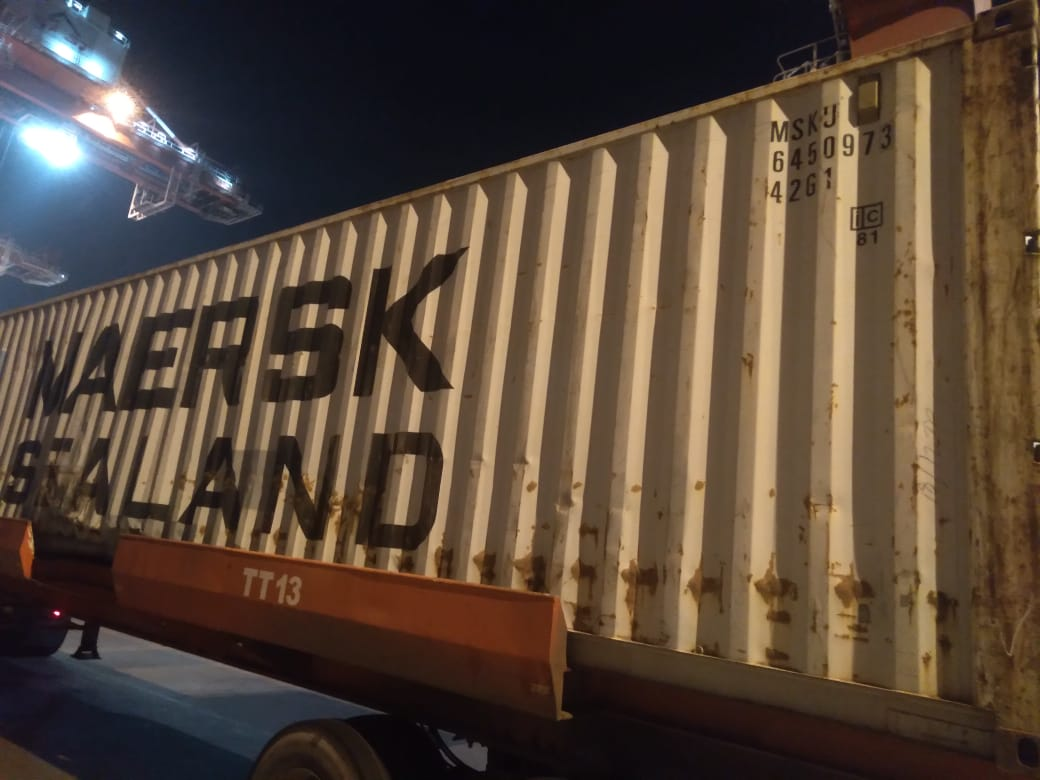dented: (9, 449, 127, 529)
